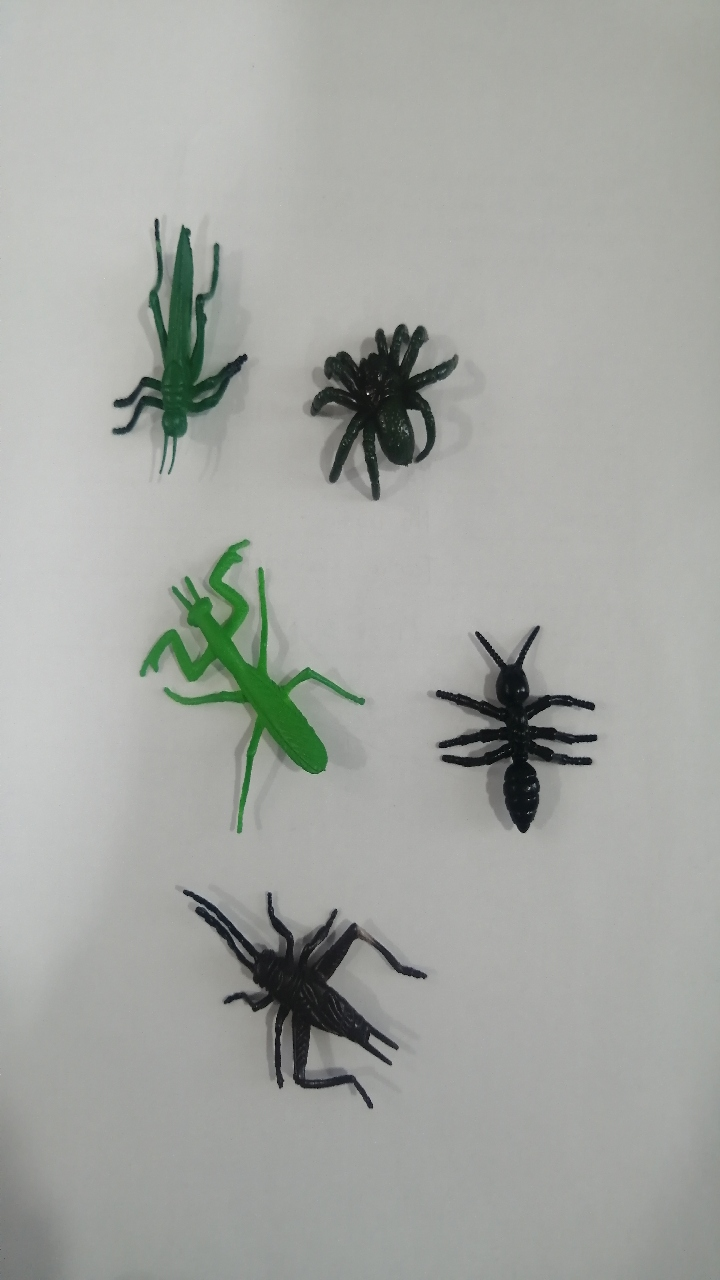intruso: (114, 499, 381, 862), (146, 859, 444, 1142), (388, 585, 632, 872), (55, 172, 269, 495), (281, 277, 477, 520)
